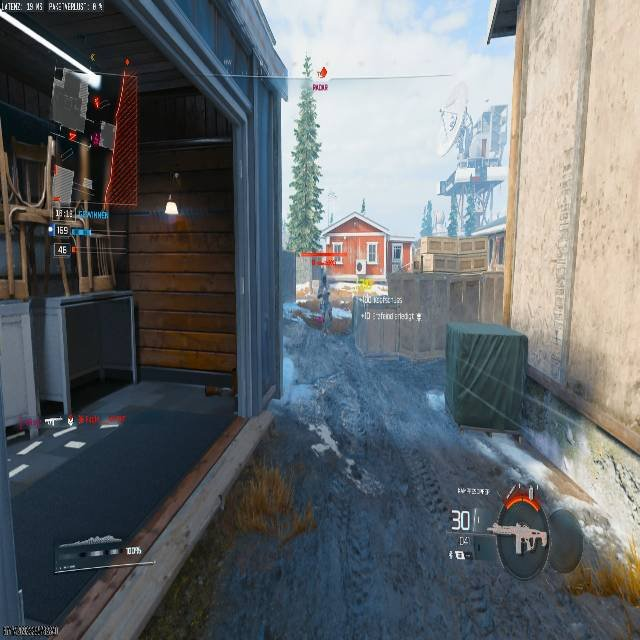player: (313, 268, 336, 318)
